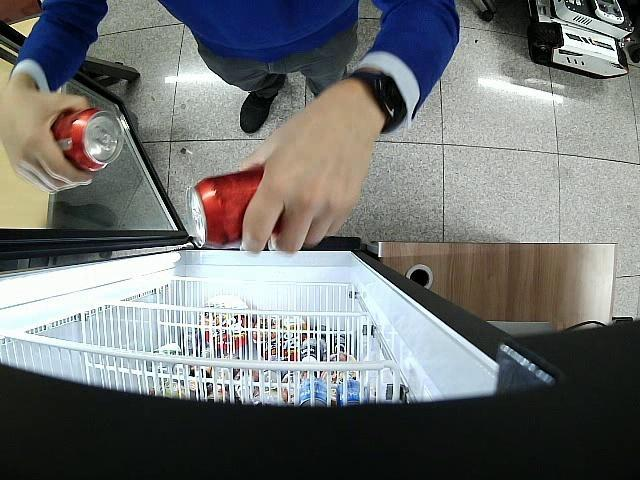11_cocaColaZero: (184, 167, 282, 248), (54, 104, 124, 175)
